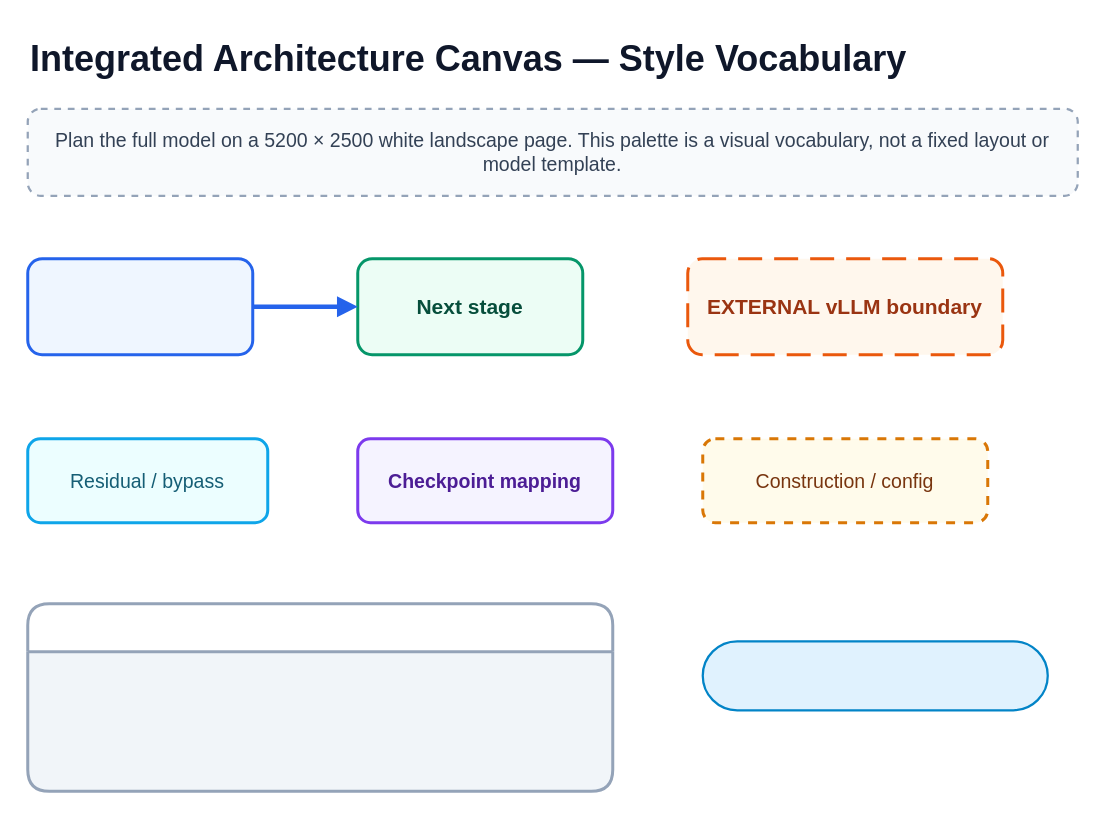
The diagram is 1104 pixels wide and 818 high, and some of its shapes have lost their labels. Here are the shapes that lost their labels. From the top down, the centre of each, then its label:
the point at 140,306: Runtime tensor
the point at 874,675: TP | PP | EP | LoRA
the point at 320,697: Nested component container
